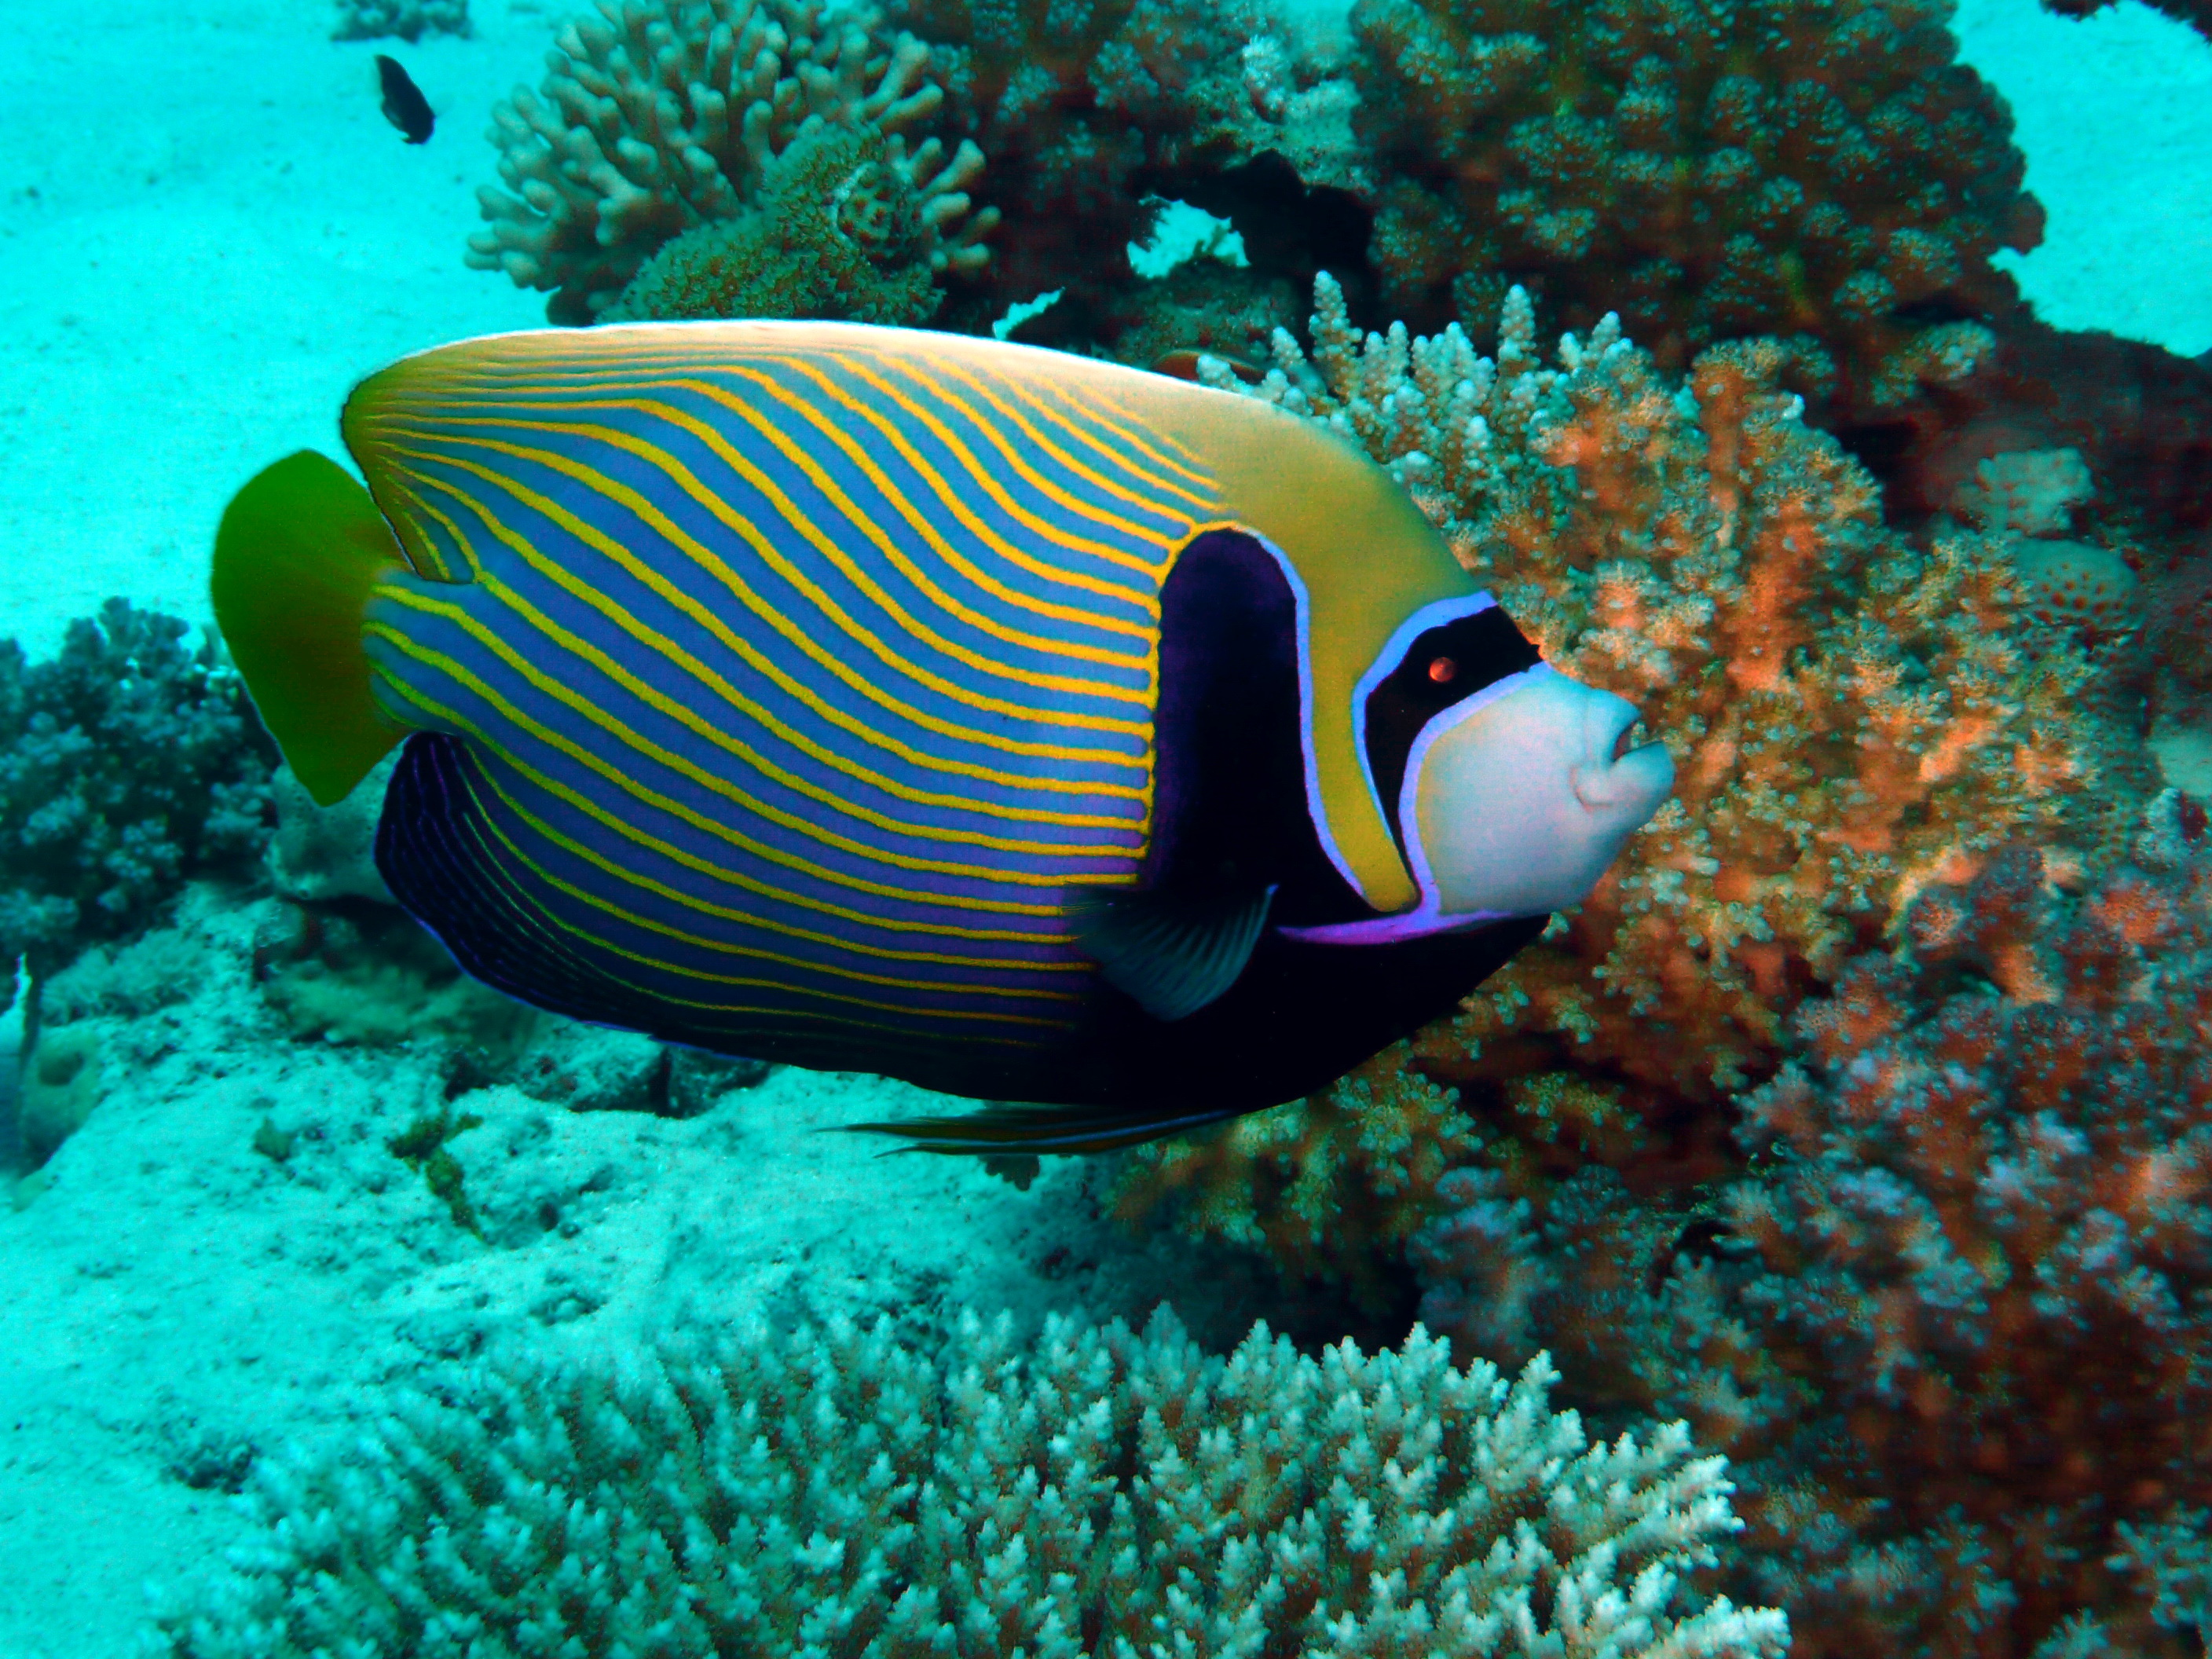Pomacanthus_imperator: (179, 282, 1742, 1213)
